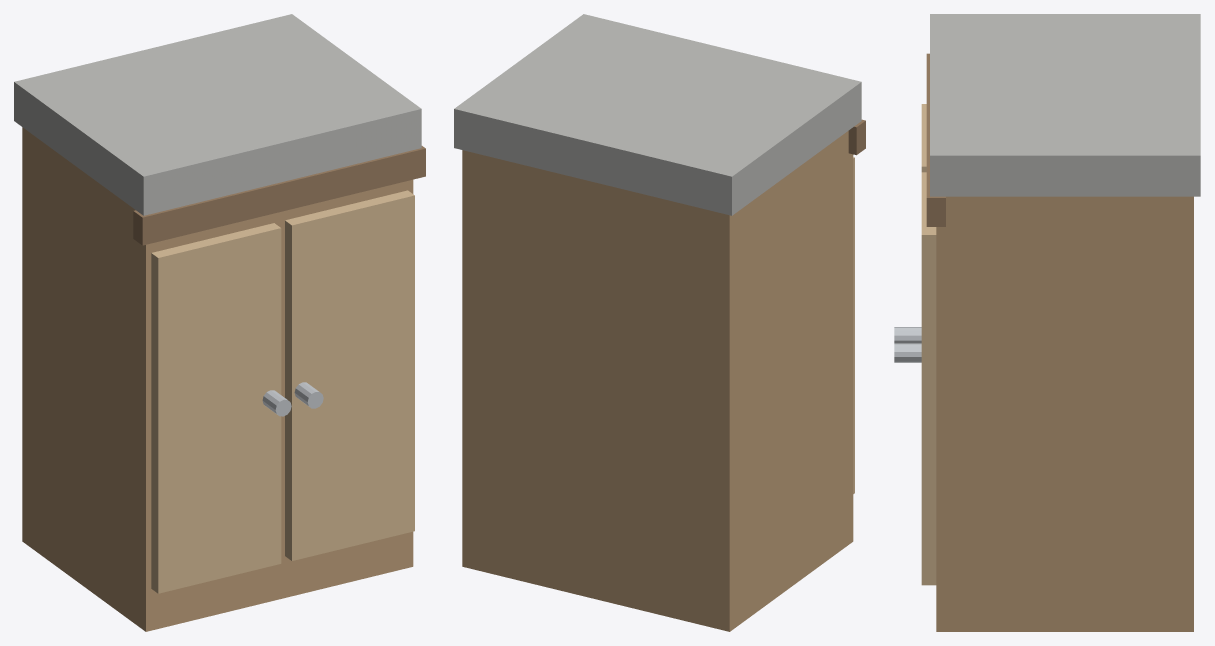
Rendered from tool_cupboard.glb.
The picture shows the model from 3 angles, left to right: view 1: azimuth 30°, elevation 25°; view 2: azimuth 150°, elevation 25°; view 3: azimuth 270°, elevation 25°; orthographic projection. The views are drawn at different scales.
Visible parts, largest first — view 1: tool_cupboard; view 2: tool_cupboard; view 3: tool_cupboard.
Part boxes in pixels (x1,y1,x2,y2): tool_cupboard: [14, 14, 425, 631]; tool_cupboard: [454, 14, 865, 631]; tool_cupboard: [894, 14, 1200, 631].
Bounding box in the file's own units: 1.06 × 1.64 × 0.95.
